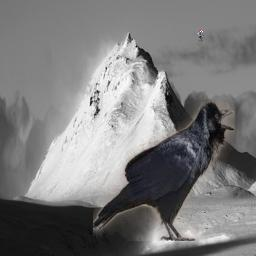Crow: (93, 101, 235, 241)
Woodpecker: (196, 30, 204, 42)
